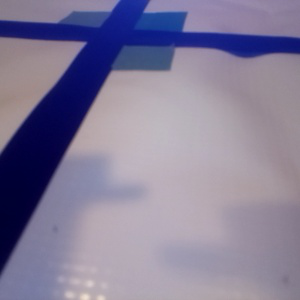bottom_right: (87, 32, 175, 71)
top_left: (58, 11, 134, 41)
top_right: (110, 12, 187, 44)
